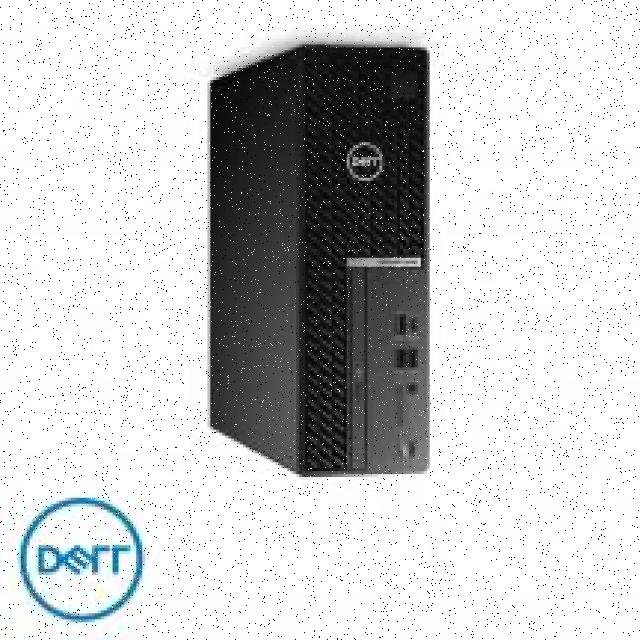Computer: (183, 31, 450, 498)
